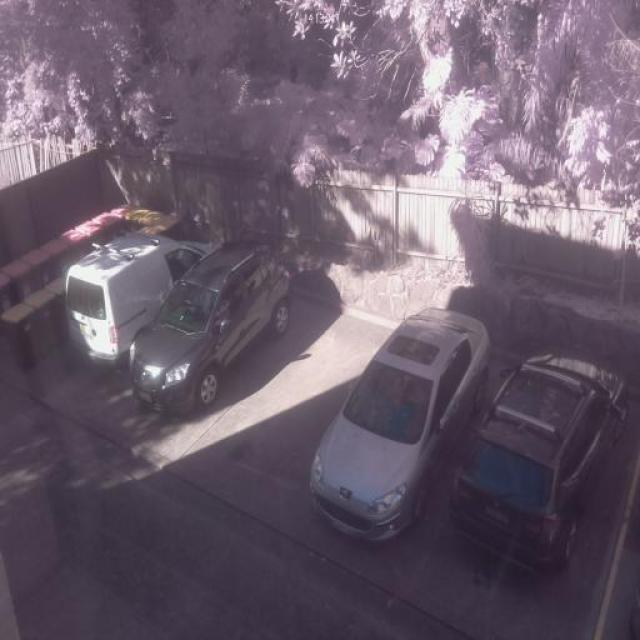Legalparking: (344, 263, 640, 623), (29, 168, 336, 448)
